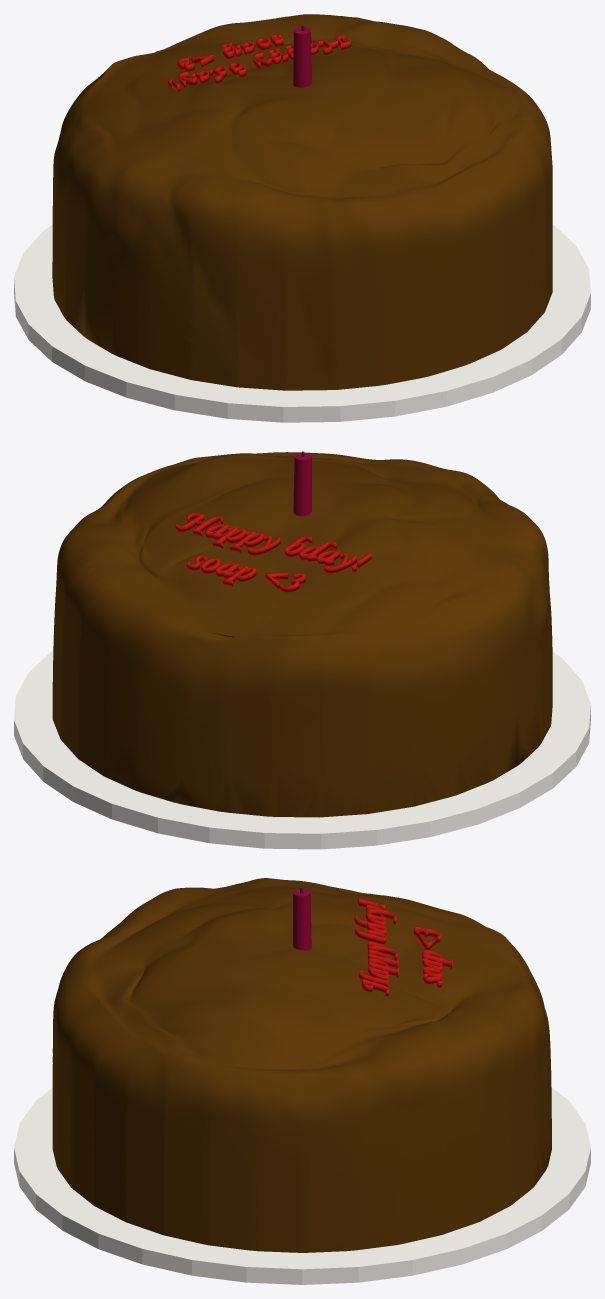
Rendered from happy-bday.glb.
3 renders of one model, top to bottom at view 1: azimuth 30°, elevation 25°; view 2: azimuth 150°, elevation 25°; view 3: azimuth 270°, elevation 25°, orthographic.
Parts seen in each view (by area): view 1: Icing, Candle; view 2: Icing, Candle; view 3: Icing, Candle.
Part boxes in pixels (<box>): Icing: <box>52,14,552,390</box>; Candle: <box>14,25,590,422</box>; Icing: <box>52,452,552,817</box>; Candle: <box>14,451,590,849</box>; Icing: <box>52,878,551,1252</box>; Candle: <box>14,888,590,1284</box>.
Bounding box in the file's own units: 6 × 3.15 × 6.
1 material, 1 textured.
